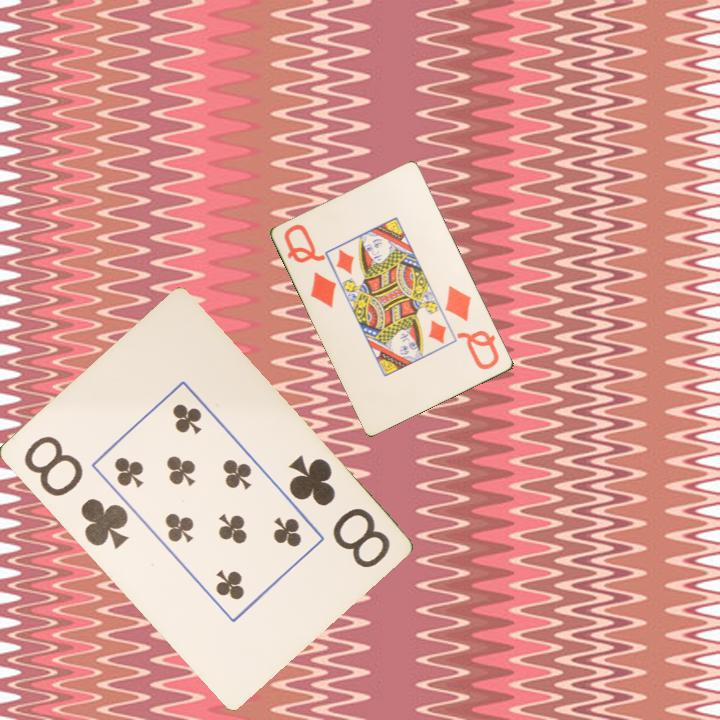8c: (19, 431, 131, 553), (284, 451, 393, 571)
Qd: (442, 282, 502, 373), (281, 220, 340, 311)
